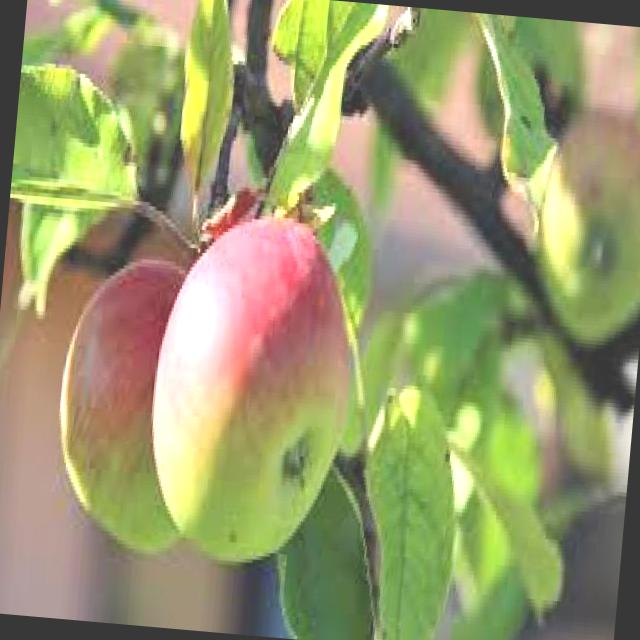Apple: (142, 206, 362, 568), (46, 252, 202, 554), (530, 101, 640, 352)
